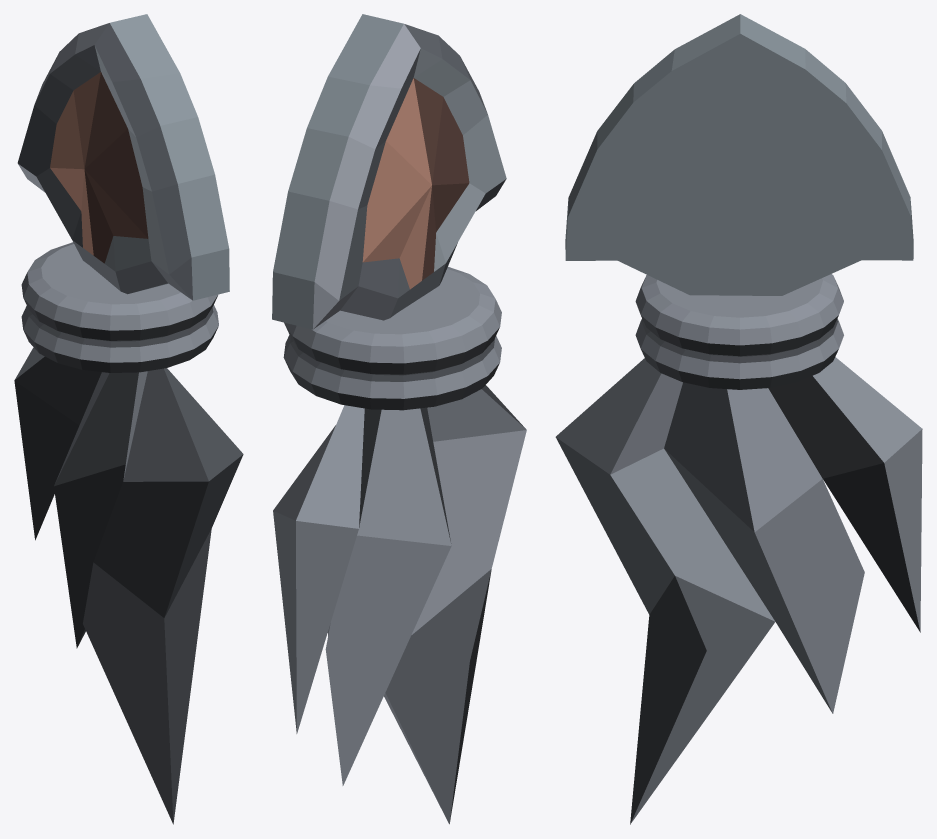
File: Item_Earring_01.fbx
3 renders of one model, left to right at view 1: azimuth 30°, elevation 25°; view 2: azimuth 150°, elevation 25°; view 3: azimuth 270°, elevation 25°, orthographic. The views are drawn at different scales.
Parts seen in each view (by area): view 1: Lera_Item_Earring_01; view 2: Lera_Item_Earring_01; view 3: Lera_Item_Earring_01.
Boxes of the visible parts, x1,y1,x2,y2 form: Lera_Item_Earring_01: (14,14,243,824); Lera_Item_Earring_01: (272,14,526,824); Lera_Item_Earring_01: (555,14,922,824).
Bounding box in the file's own units: 183 × 780 × 322.
